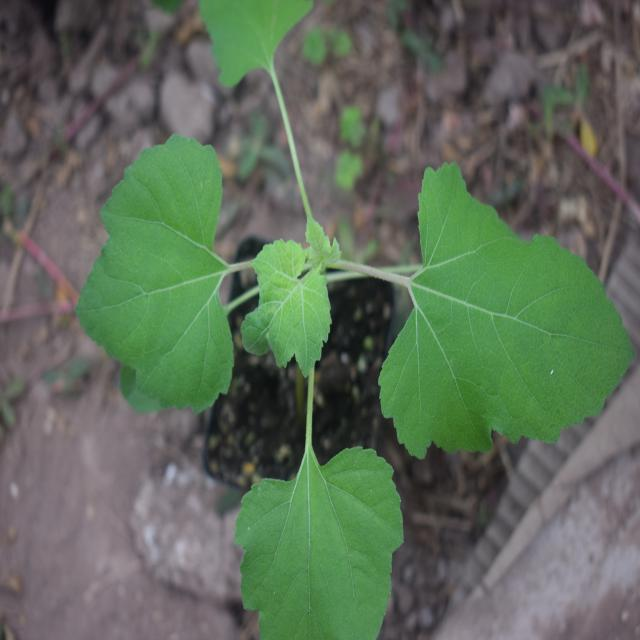cocklebur: (87, 68, 608, 631)
